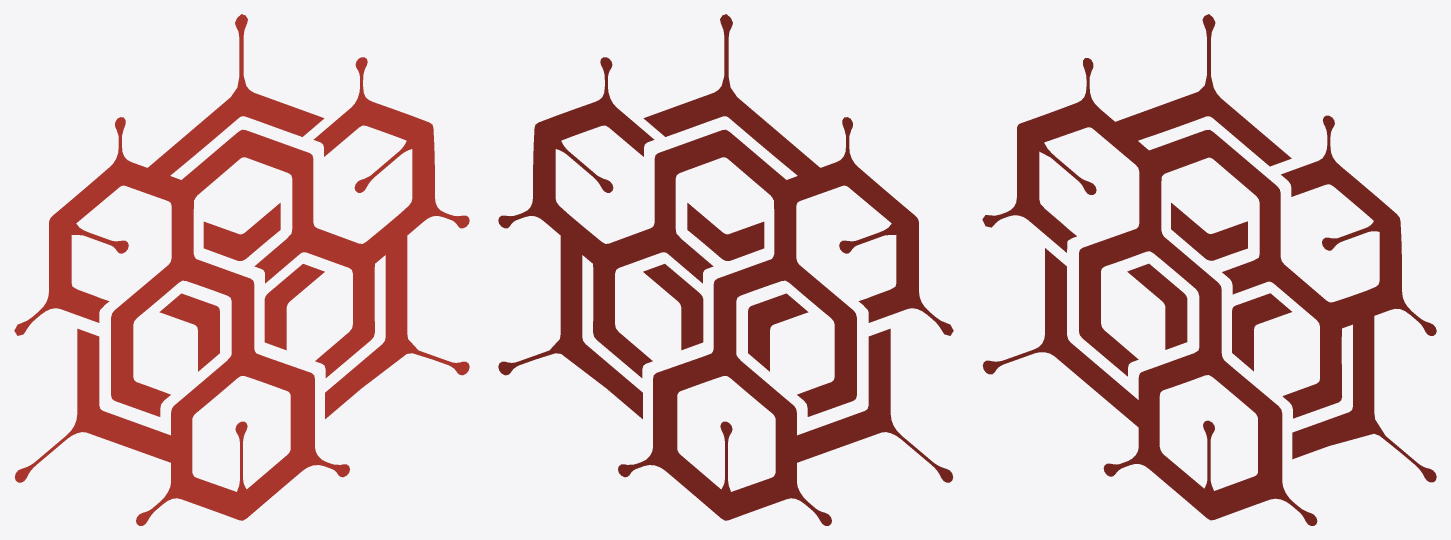
Rendered from GRAF_3_23.glb.
3 renders of one model, left to right at view 1: azimuth 30°, elevation 25°; view 2: azimuth 150°, elevation 25°; view 3: azimuth 330°, elevation 25°, orthographic.
Visible parts, largest first — view 1: Curve.008; view 2: Curve.008; view 3: Curve.008.
Part boxes in pixels (x1=…): Curve.008: x1=14, y1=14, x2=469, y2=525; Curve.008: x1=498, y1=14, x2=953, y2=525; Curve.008: x1=982, y1=14, x2=1436, y2=525.
Size of the model in its own units: 3.45 by 3.67 by 8.94e-08.
